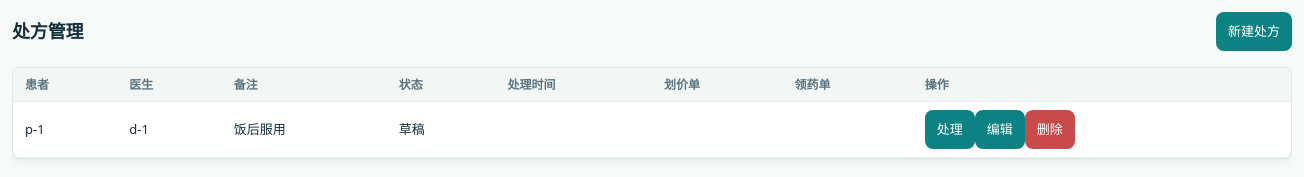
Scenario: PrescriptionsPage › processes a prescription and shows the generated charge and dispense numbers
Expected: the text "饭后服用" is shown, [222,102,387,158]
Click the button "处理" at (950, 130), box [925,110,975,149]
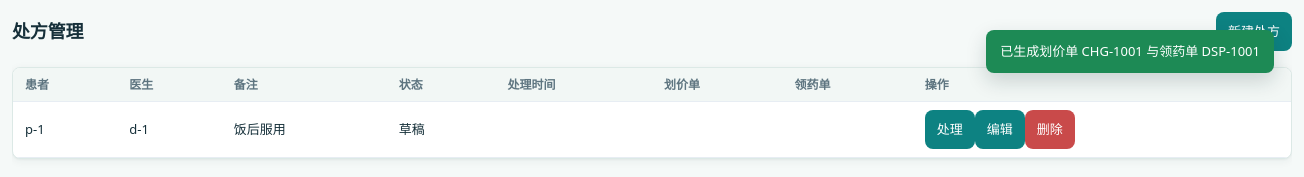
Result: the text "已生成划价单 CHG-1001 与领药单 DSP-1001" is shown at [986,30,1274,73]
